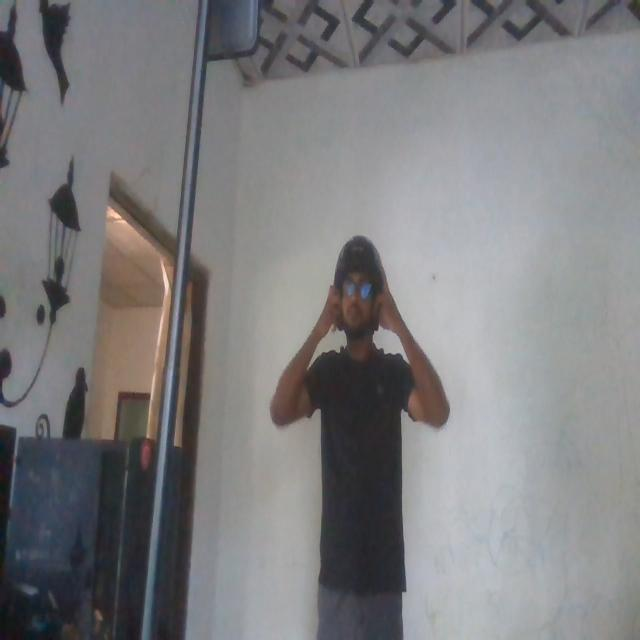Helmet_Wearer: (320, 226, 398, 354)
Person: (270, 213, 454, 640)
